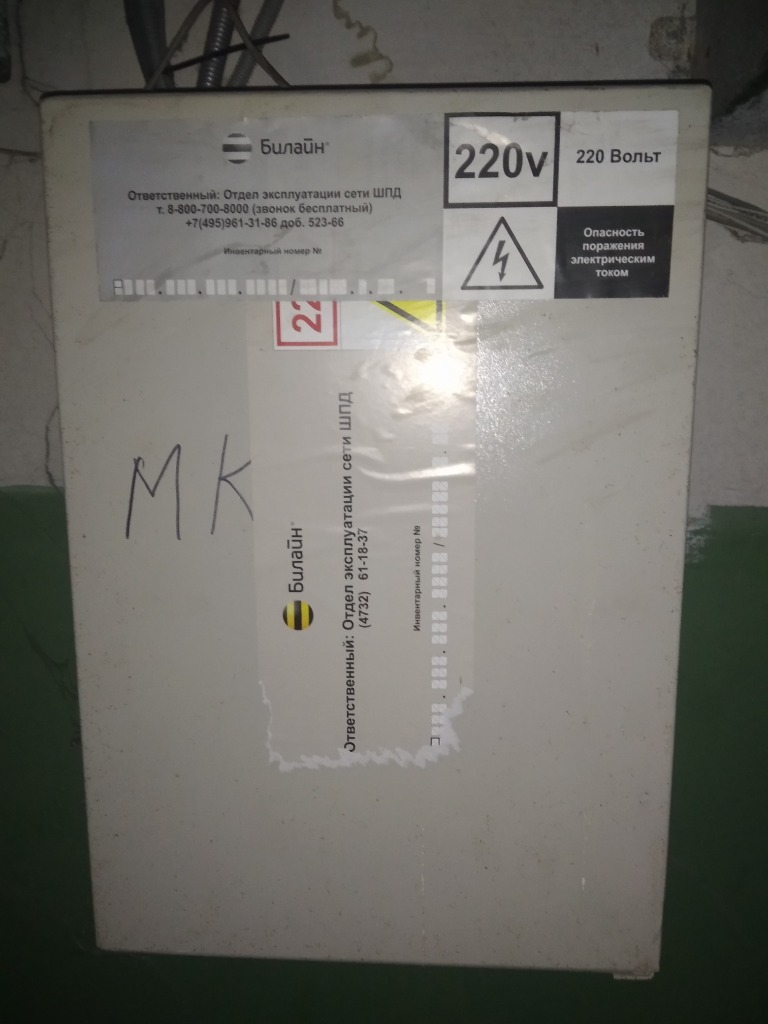sv-5: (29, 75, 726, 986)
